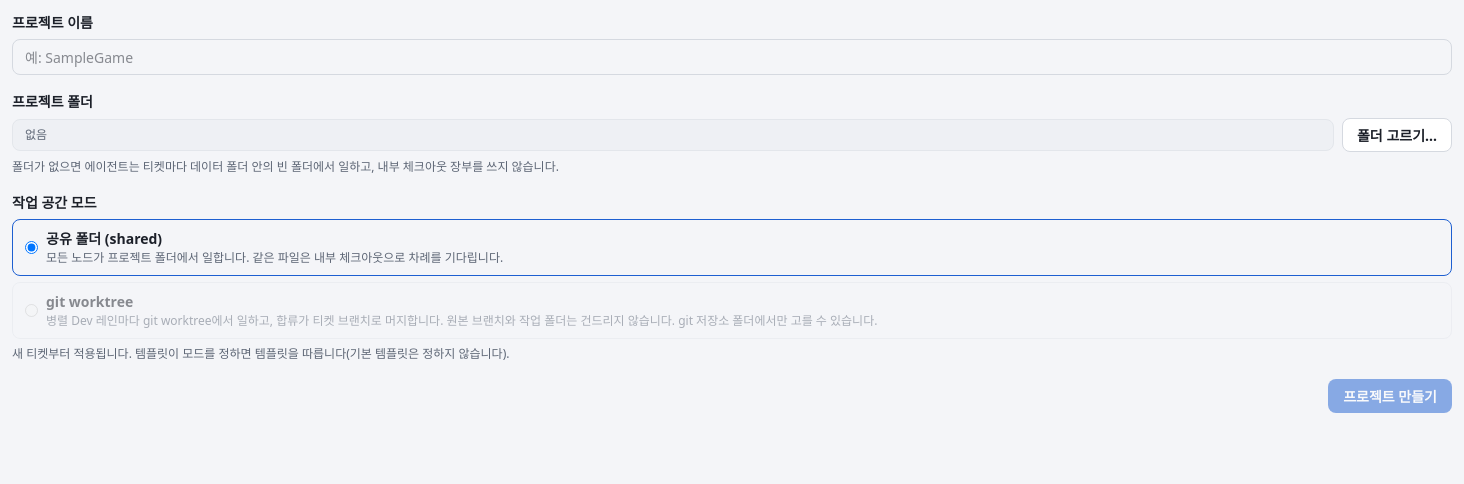
Test case: new project with a folder › says so when the folder could not be saved after the project was made
In the field labelled "프로젝트 이름": (732, 57) [12, 39, 1452, 75], type "notepad"
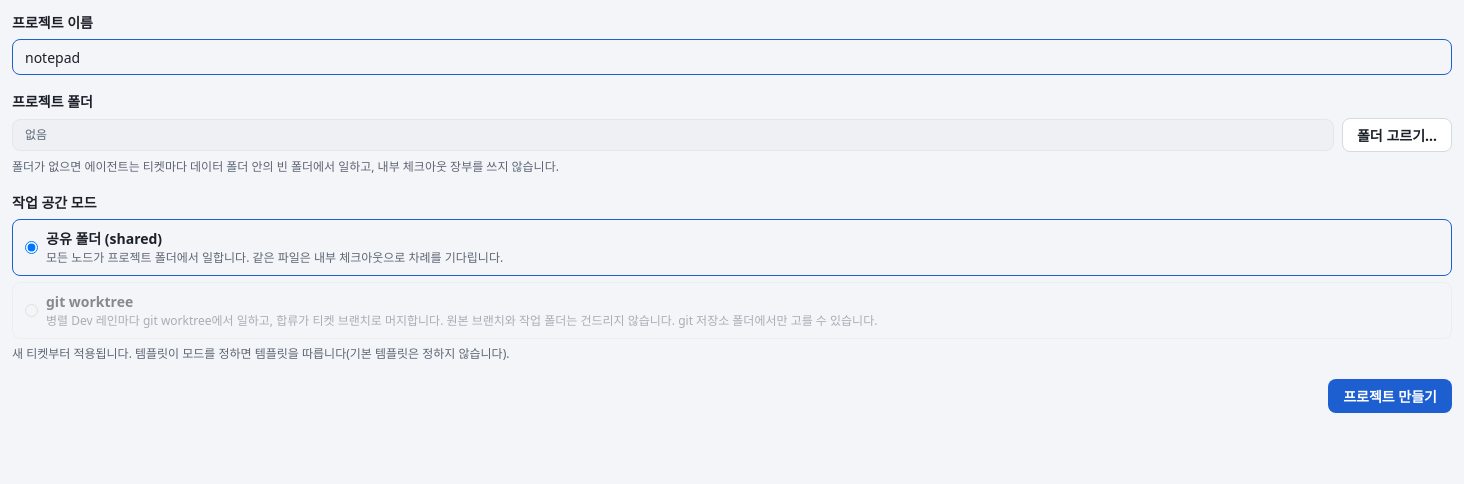
Click the button "폴더 고르기…": (1397, 135) [1342, 118, 1452, 152]
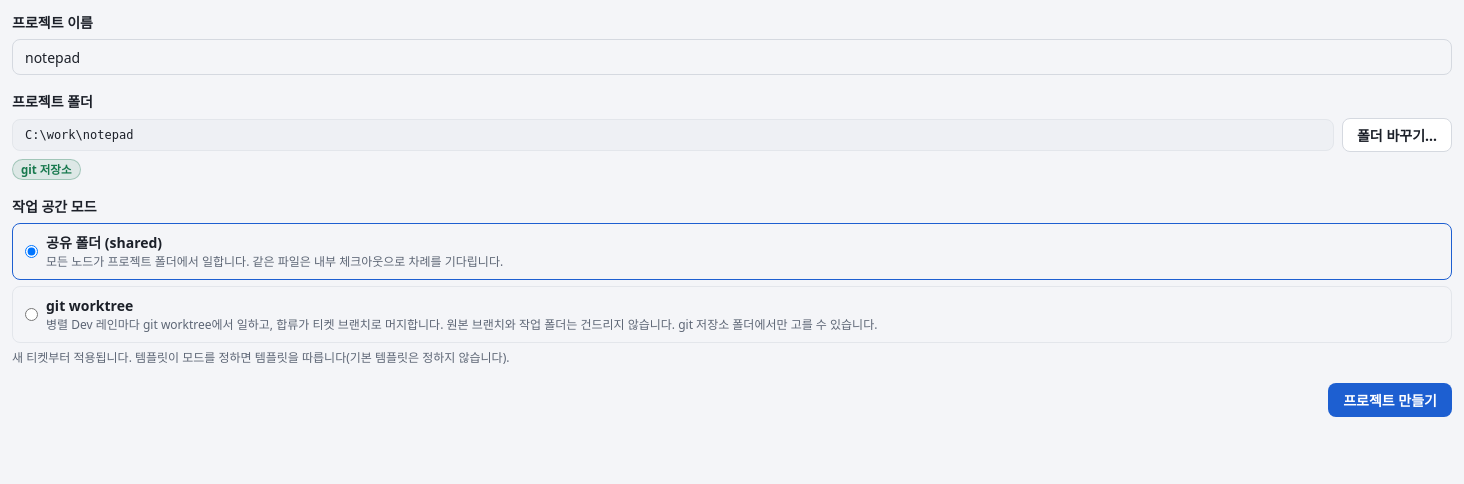
Result: the text "git 저장소" is shown at [12, 159, 80, 180]
Click the button "프로젝트 만들기": (1390, 400) [1328, 383, 1452, 417]
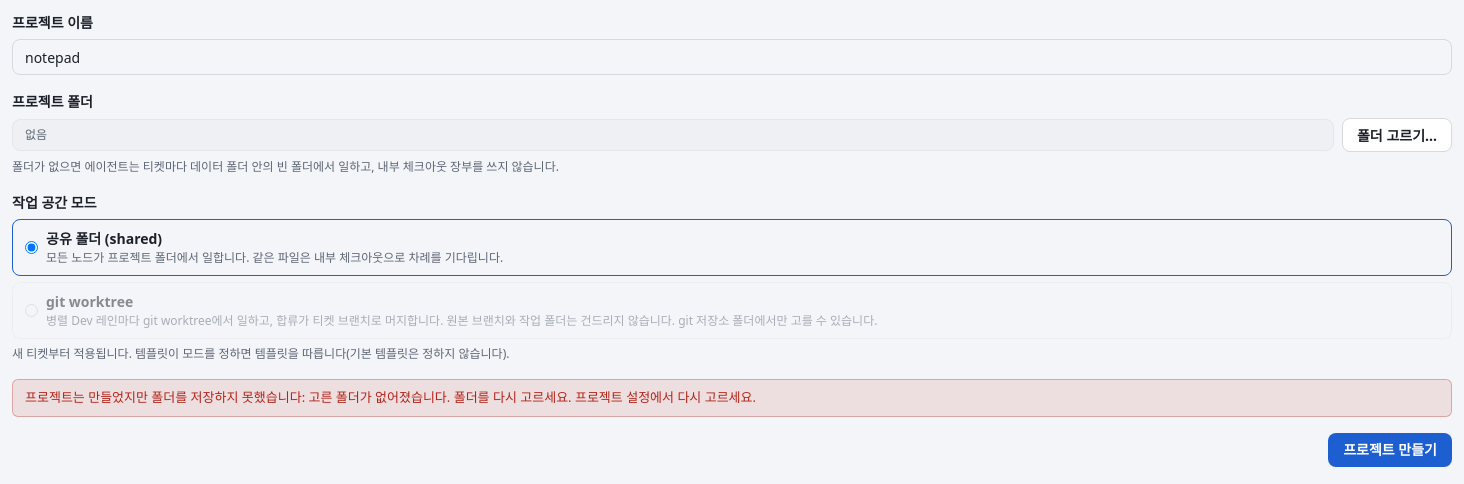
Result: the message shows "프로젝트는 만들었지만 폴더를 저장하지 못했습니다" at [25, 388, 756, 406]
Result: the text named "프로젝트 폴더 경로" reads "없음" at [25, 128, 47, 142]
